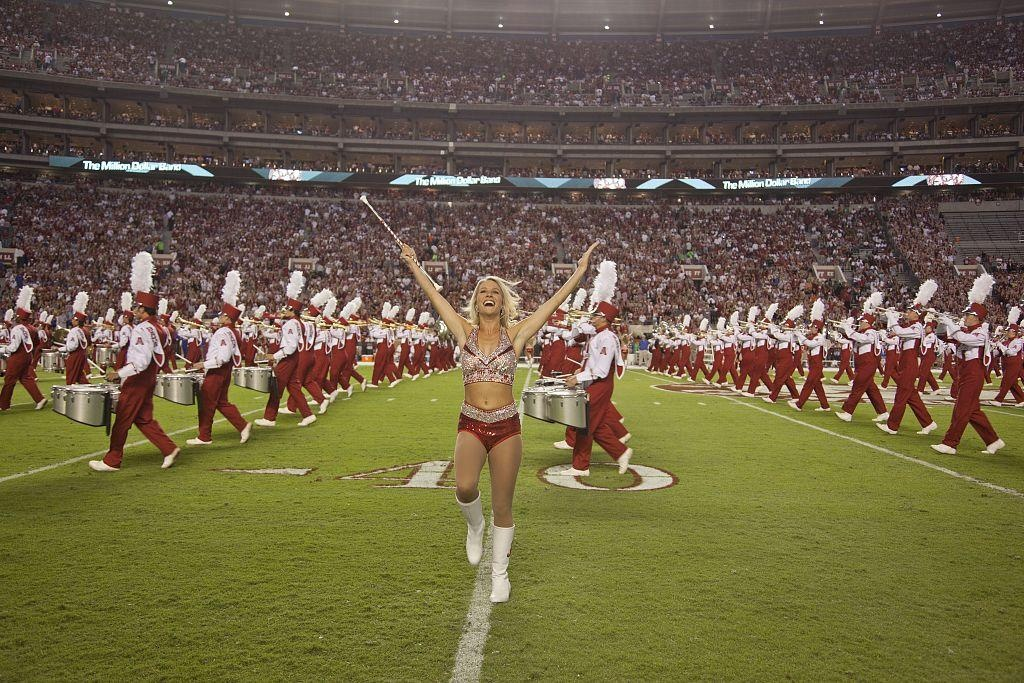human_face: (475, 279, 501, 313), (132, 303, 144, 319), (591, 311, 603, 323), (963, 311, 973, 325), (219, 308, 227, 322), (284, 306, 292, 316), (858, 319, 866, 329), (907, 308, 915, 318), (1008, 326, 1014, 338), (70, 316, 78, 324), (888, 328, 896, 336), (10, 314, 16, 324), (809, 324, 815, 332), (159, 317, 165, 325), (381, 320, 387, 328), (924, 324, 930, 332), (122, 312, 126, 322), (210, 324, 216, 330), (1, 320, 5, 328), (304, 310, 308, 318), (320, 319, 324, 327), (264, 316, 268, 324), (1002, 330, 1008, 334), (992, 334, 994, 340)
